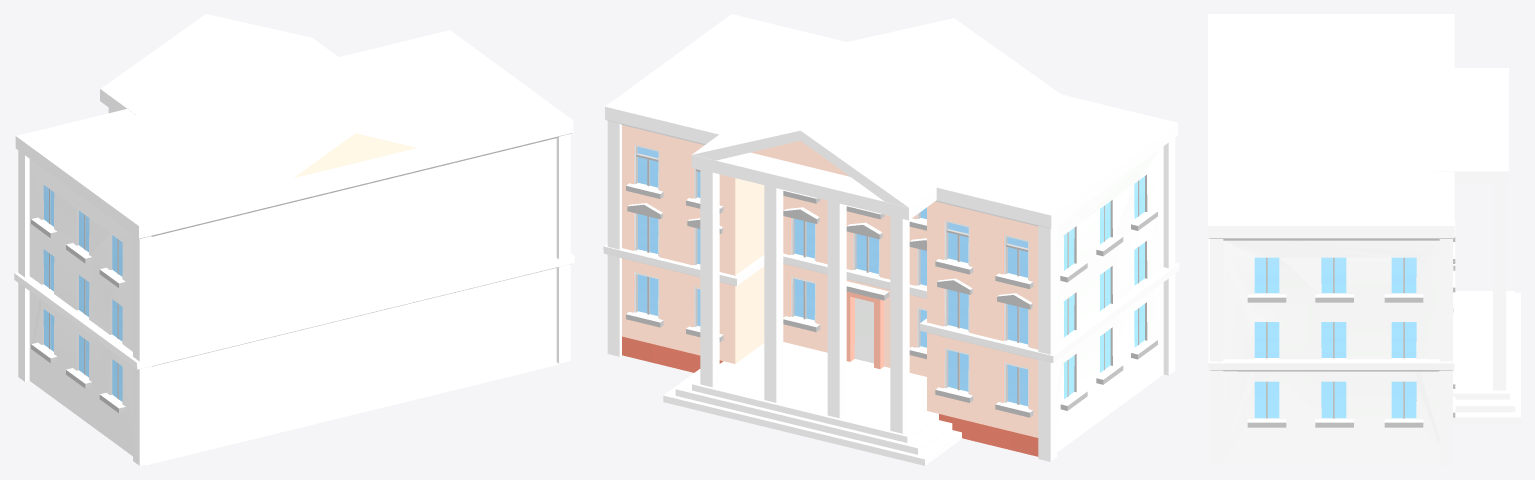
The model's file is art.008.glb.
3 views of the same model, side by side, from view 1: azimuth 30°, elevation 25°; view 2: azimuth 150°, elevation 25°; view 3: azimuth 270°, elevation 25° (orthographic). The views are drawn at different scales.
Visible parts, largest first — view 1: art.008(Clone); view 2: art.008(Clone); view 3: art.008(Clone).
Part boxes in pixels (left/top/right/bottom): art.008(Clone): left=14, top=14, right=574, bottom=465; art.008(Clone): left=603, top=14, right=1179, bottom=465; art.008(Clone): left=1208, top=14, right=1520, bottom=465.
Bounding box in the file's own units: 15.29 × 9.78 × 9.45.
Materials: 1 (1 with a texture image).
